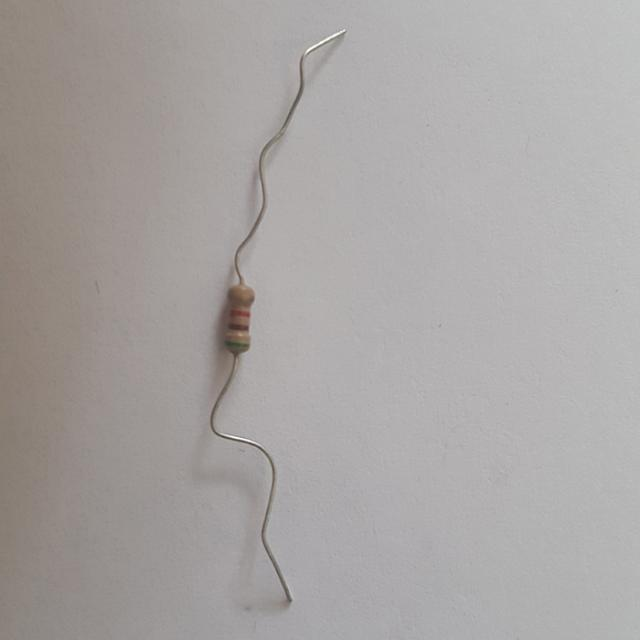brown: (229, 322, 248, 330)
gold: (228, 293, 251, 299)
green: (226, 341, 251, 347)
red: (230, 310, 249, 316)
resistor: (216, 279, 264, 358)
